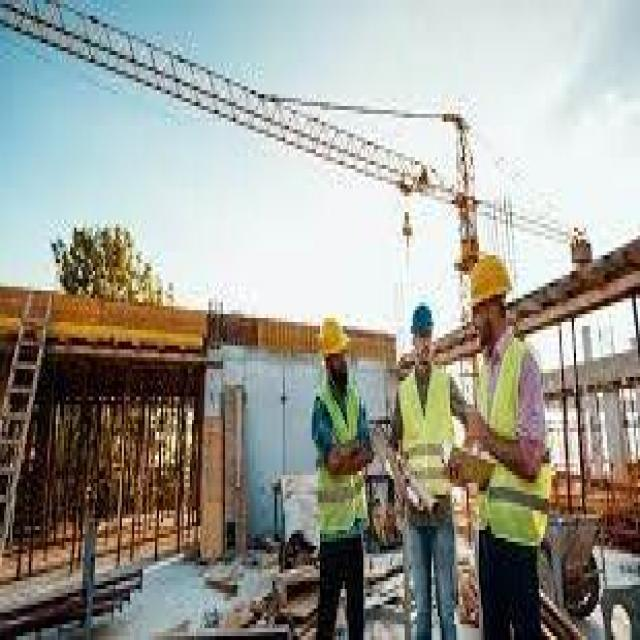Reflective-Jacket: (470, 330, 560, 557), (306, 373, 374, 558), (390, 357, 460, 526)
Safety-Helmet: (461, 243, 518, 322), (312, 298, 355, 369), (400, 291, 442, 354)
